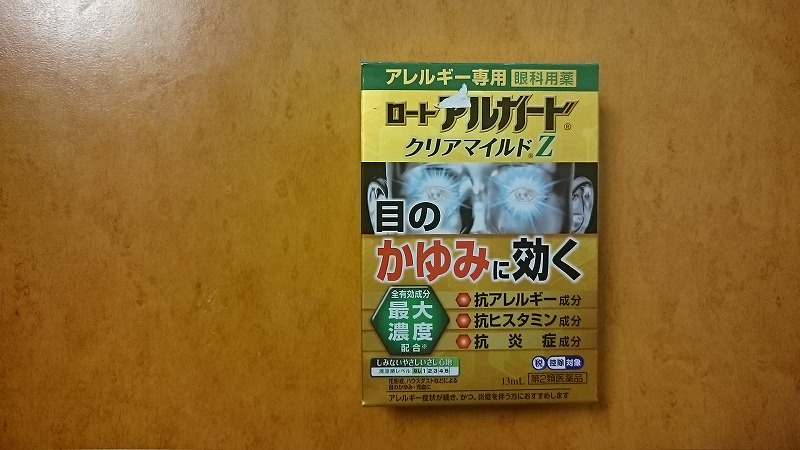C: (354, 56, 603, 409)
